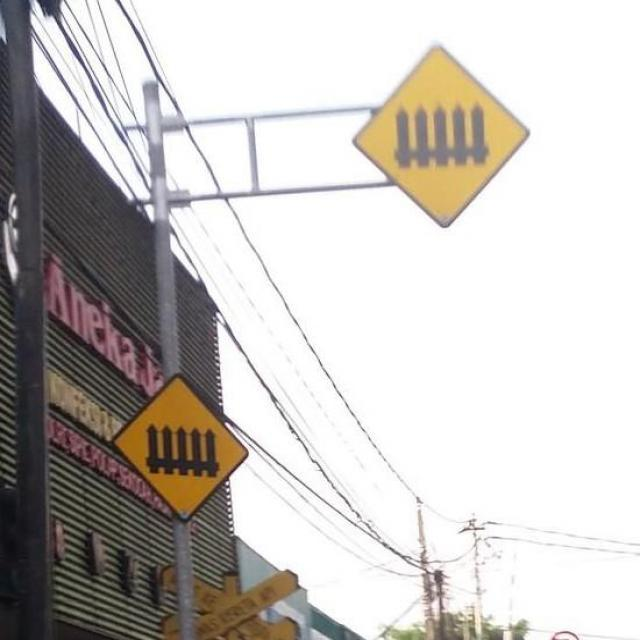traffic sign: (360, 51, 525, 229), (124, 381, 246, 514)
